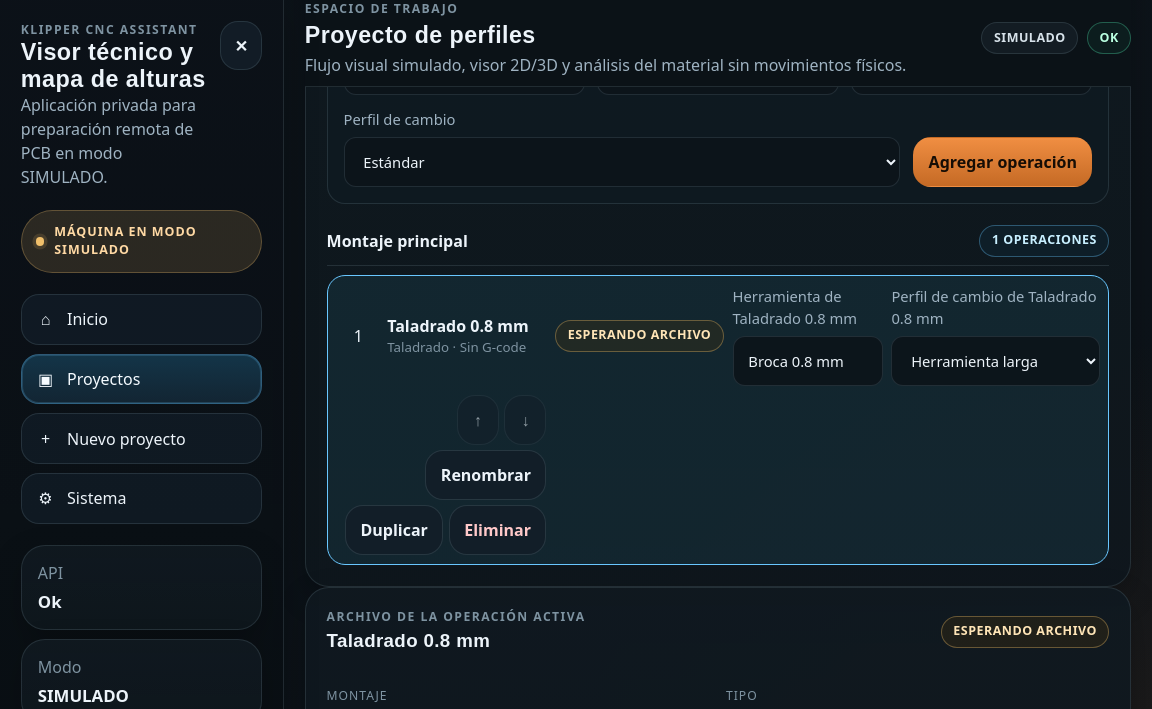
Test: App › persiste el cambio de herramienta larga a estándar
(page scrolled)
Select "Estándar" in the dropdown labelled "Perfil de cambio de Taladrado 0.8 mm" at [996, 361], box x1=891 y1=336 x2=1100 y2=386
(page scrolled)
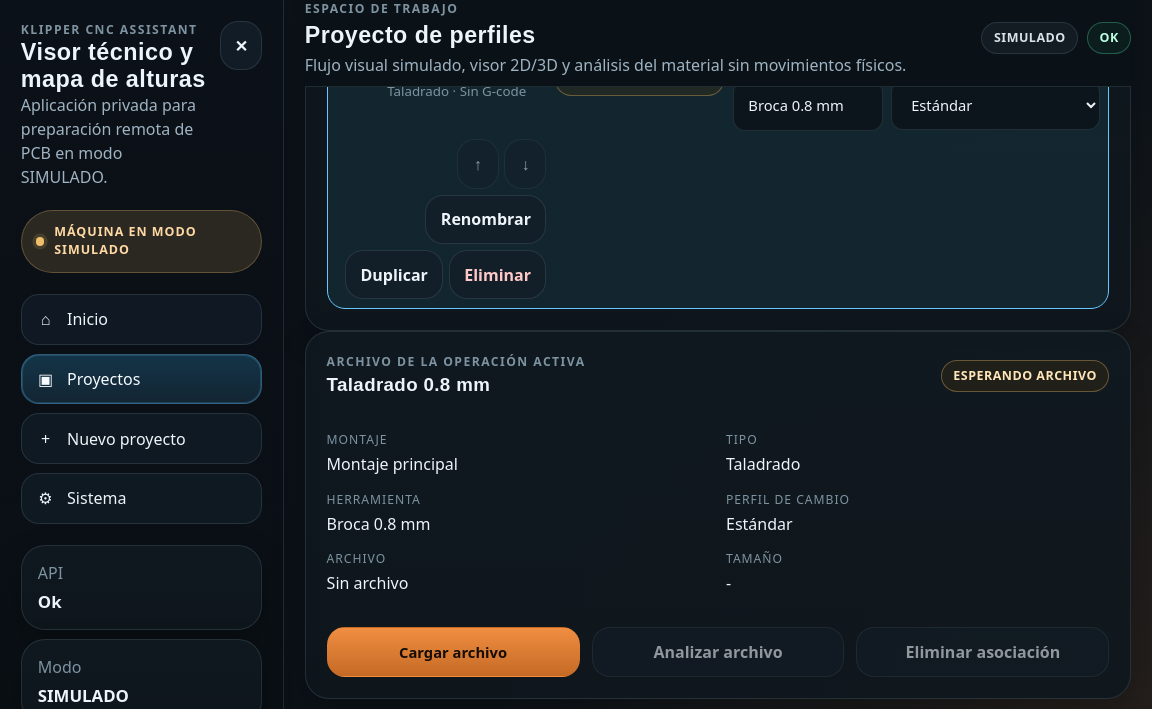
Expected: the element with class "operation-detail-panel" is shown, x1=305 y1=331 x2=1131 y2=699
Now the text "Estándar" is shown, box x1=726 y1=513 x2=793 y2=535
